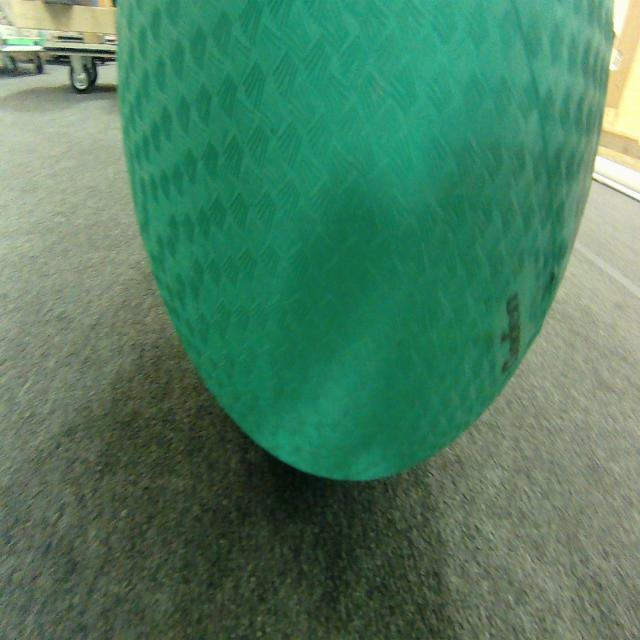algae: (117, 0, 614, 480)
